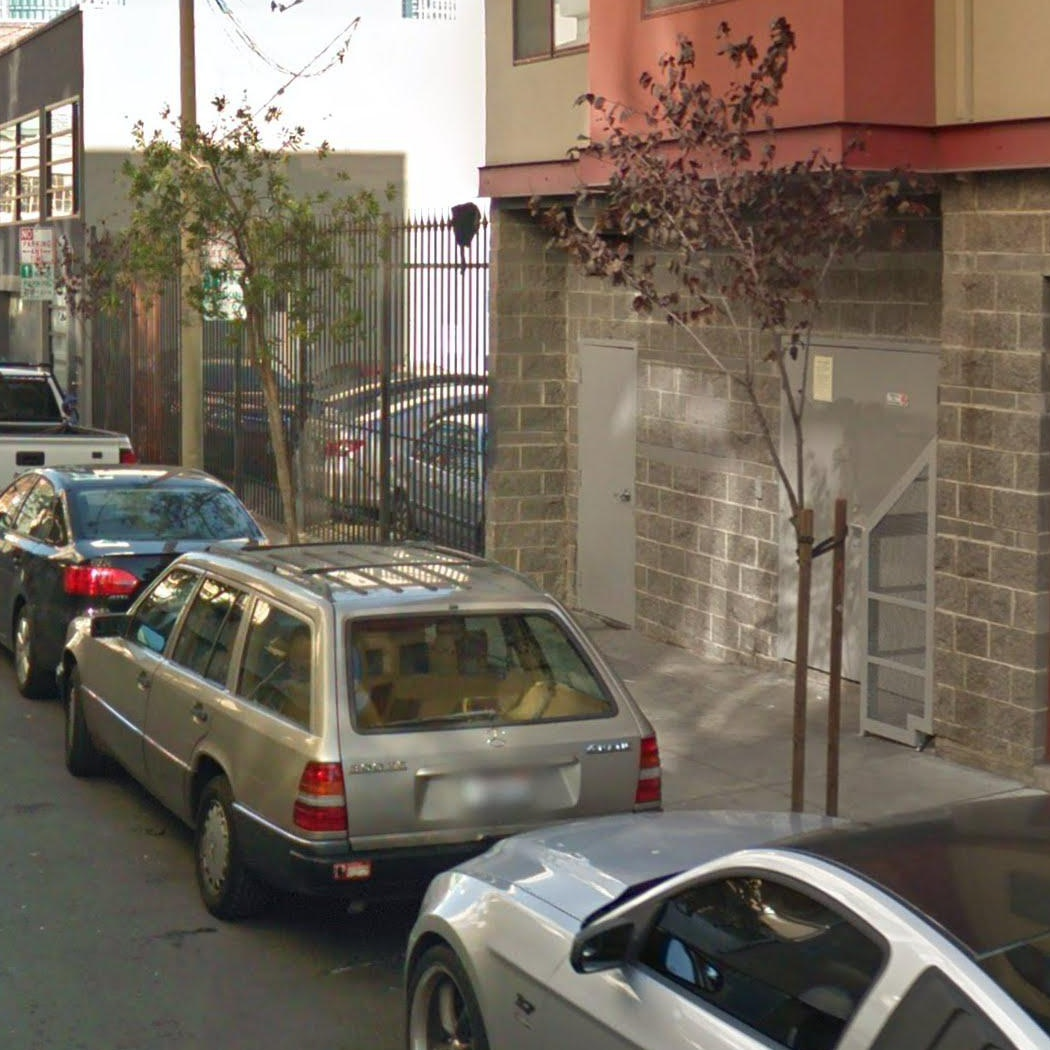1 Hour Parking: (18, 265, 57, 305)
No Parking: (17, 225, 57, 266)
